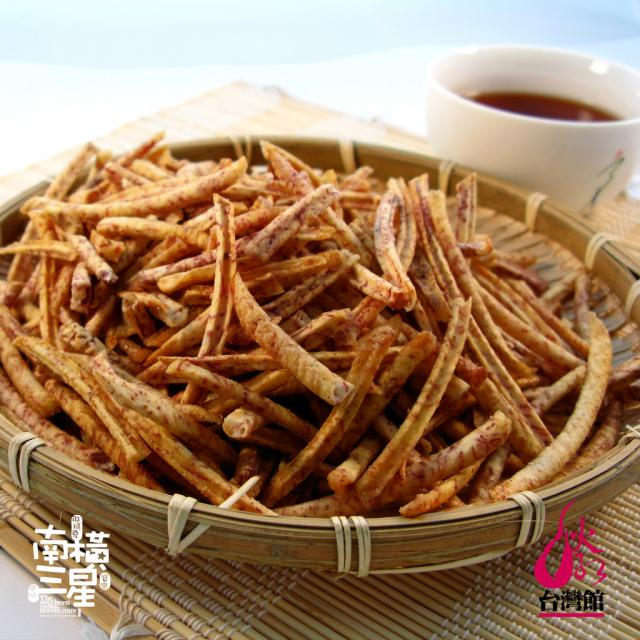Coffee: (464, 89, 620, 117)
Tea: (464, 89, 628, 121)
